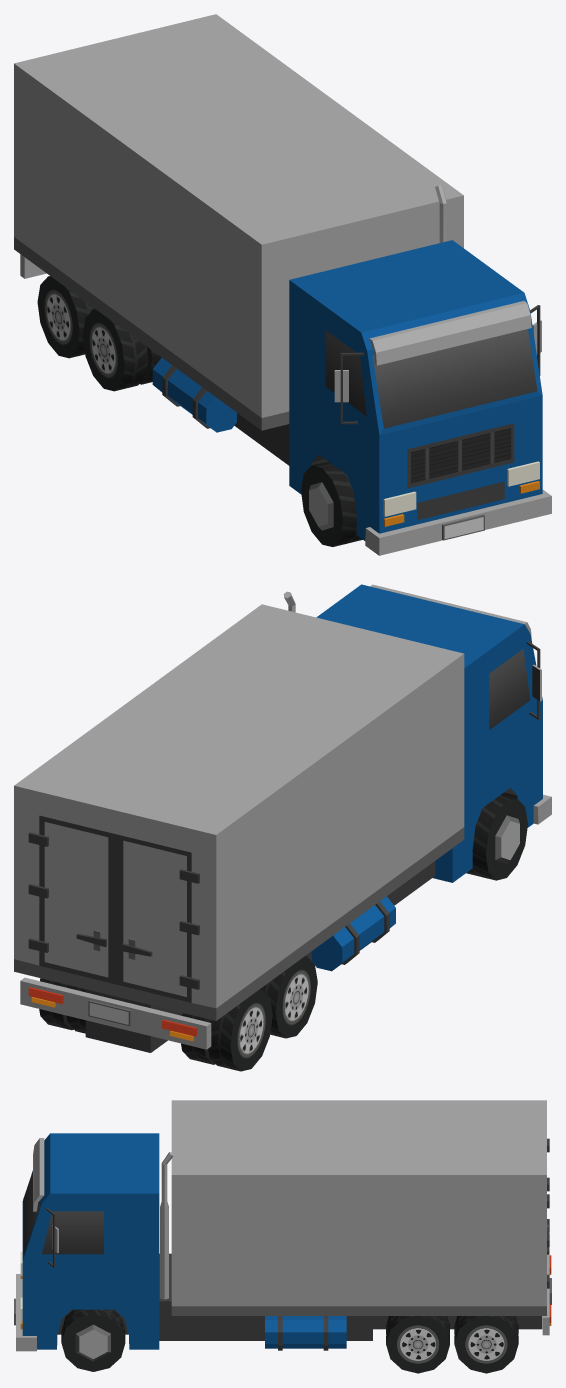
File: TruckEuropeanE.fbx
3 renders of one model, top to bottom at view 1: azimuth 30°, elevation 25°; view 2: azimuth 150°, elevation 25°; view 3: azimuth 270°, elevation 25°, orthographic. The views are drawn at different scales.
Parts seen in each view (by area): view 1: TruckEuropeanE, TireBRX, TireFR, TireBRY; view 2: TruckEuropeanE, TireBRY, TireFR, TireBRX, TireBLY; view 3: TruckEuropeanE, TireFL, TireBLY, TireBLX.
Boxes of the visible parts, x1=… form: TruckEuropeanE: x1=14, y1=14, x2=551, y2=555; TireBRX: x1=82, y1=309, x2=161, y2=391; TireFR: x1=301, y1=461, x2=362, y2=546; TireBRY: x1=37, y1=276, x2=94, y2=358; TruckEuropeanE: x1=14, y1=584, x2=551, y2=1052; TireBRY: x1=181, y1=989, x2=272, y2=1071; TireFR: x1=466, y1=795, x2=527, y2=880; TireBRX: x1=260, y1=956, x2=317, y2=1038; TireBLY: x1=39, y1=978, x2=85, y2=1033; TruckEuropeanE: x1=14, y1=1100, x2=551, y2=1351; TireFL: x1=61, y1=1309, x2=125, y2=1371; TireBLY: x1=454, y1=1316, x2=518, y2=1373; TireBLX: x1=386, y1=1316, x2=449, y2=1373.
Bounding box in the file's own units: 241 × 313 × 715.
